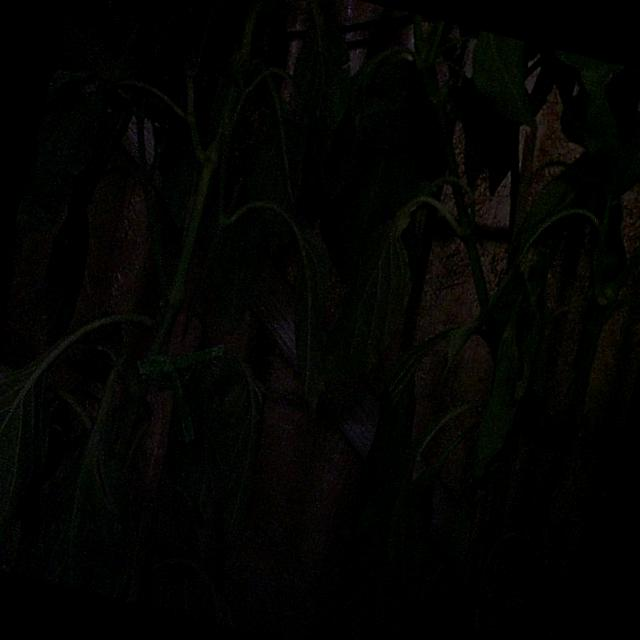Leaf: (16, 412, 134, 596), (170, 356, 263, 537), (19, 87, 106, 224), (331, 227, 410, 372), (0, 362, 46, 540), (294, 29, 350, 170), (473, 316, 521, 479), (242, 95, 307, 211), (207, 214, 272, 329), (295, 231, 330, 407), (44, 211, 89, 341), (473, 31, 531, 124)
